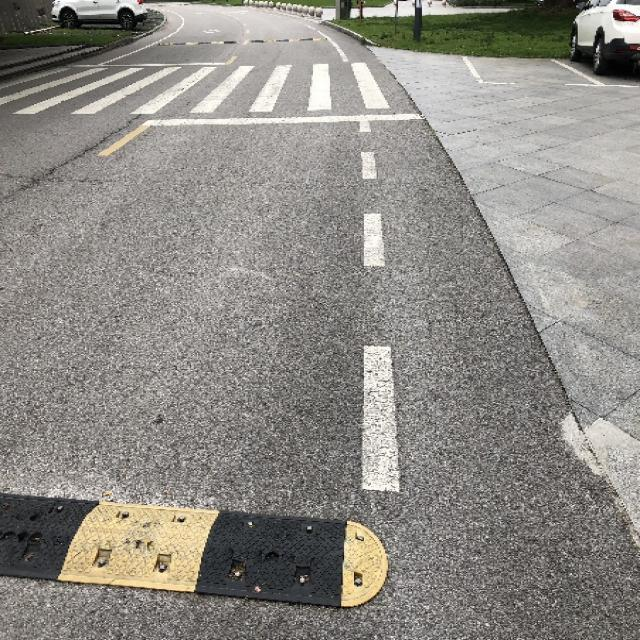Speed Bump: (2, 486, 390, 609)
